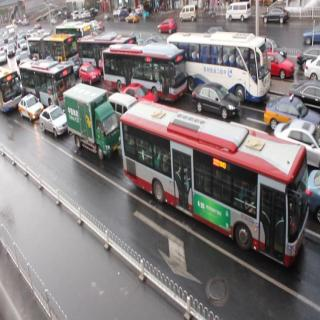BigCar: (126, 97, 297, 286), (170, 26, 265, 103), (96, 38, 190, 104), (60, 78, 120, 170)
Car: (31, 95, 75, 146), (194, 80, 238, 120), (16, 86, 38, 124)
